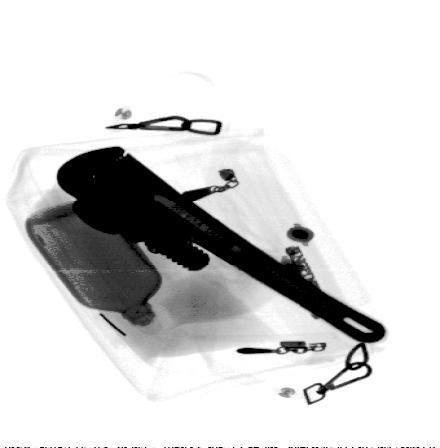Wrench: (54, 144, 389, 345)
